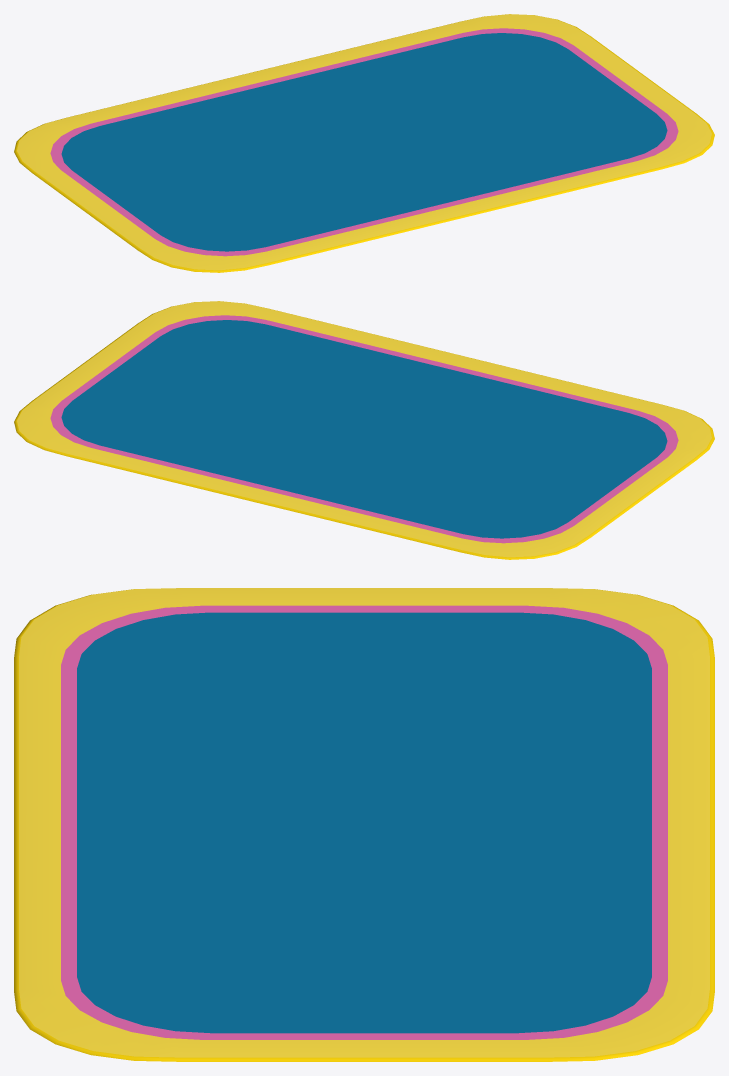
Rendered from floor_box_castle.fbx.
The picture shows the model from 3 angles, top to bottom: view 1: azimuth 30°, elevation 25°; view 2: azimuth 150°, elevation 25°; view 3: azimuth 270°, elevation 25°; orthographic projection. The views are drawn at different scales.
Visible parts, largest first — view 1: floor_box_castle; view 2: floor_box_castle; view 3: floor_box_castle.
Boxes of the visible parts, x1,y1,x2,y2 form: floor_box_castle: [14, 14, 714, 272]; floor_box_castle: [14, 301, 714, 559]; floor_box_castle: [14, 588, 714, 1061].
Size of the model in its own units: 814 by 1.72 by 509.
